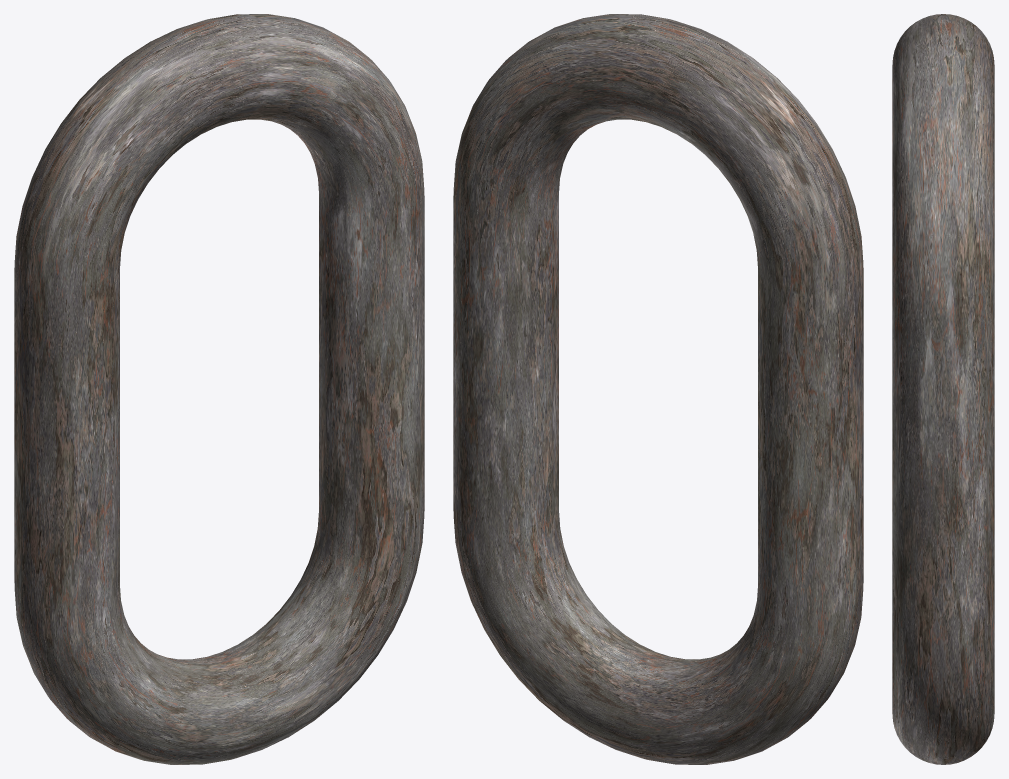
File: chain.glb
The picture shows the model from 3 angles, left to right: view 1: azimuth 30°, elevation 25°; view 2: azimuth 150°, elevation 25°; view 3: azimuth 270°, elevation 25°; orthographic projection. The views are drawn at different scales.
Parts seen in each view (by area): view 1: Sweep_0_Mat_0.001; view 2: Sweep_0_Mat_0.001; view 3: Sweep_0_Mat_0.001.
Boxes of the visible parts, x1,y1,x2,y2 form: Sweep_0_Mat_0.001: [14, 14, 424, 764]; Sweep_0_Mat_0.001: [453, 14, 863, 764]; Sweep_0_Mat_0.001: [892, 14, 994, 764].
Size of the model in its own units: 26 by 46.02 by 6.
1 material, 1 textured.
